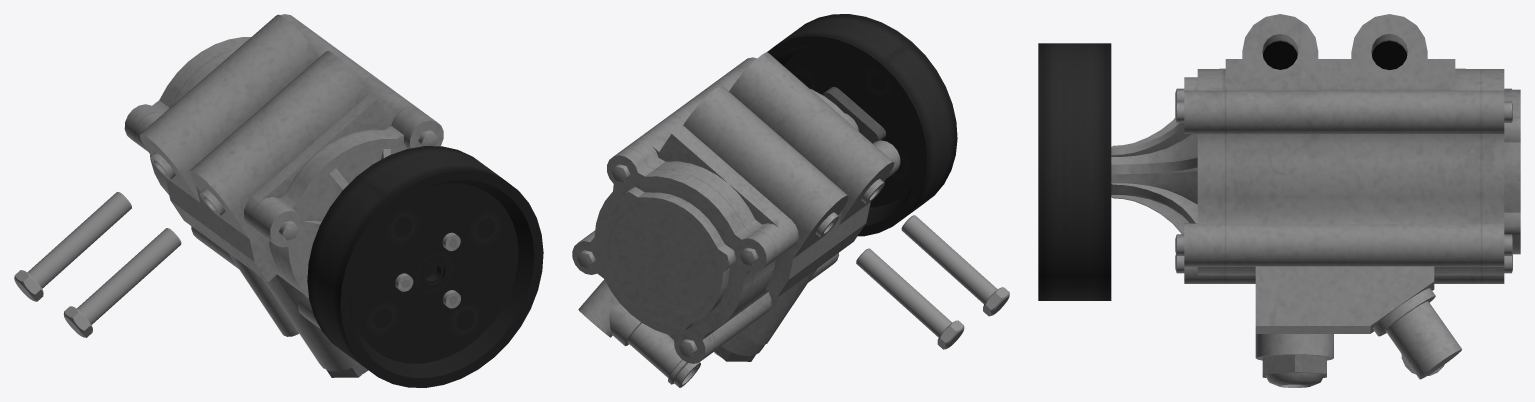
Rendered from powersteering.glb.
The picture shows the model from 3 angles, left to right: view 1: azimuth 30°, elevation 25°; view 2: azimuth 150°, elevation 25°; view 3: azimuth 270°, elevation 25°; orthographic projection. The views are drawn at different scales.
Visible parts, largest first — view 1: pompa_wspomagania(0), Obj_srubaSilnikDluga_0, srubaSilnikDluga_0; view 2: pompa_wspomagania(0), Obj_srubaSilnikDluga_0, srubaSilnikDluga_0; view 3: pompa_wspomagania(0).
Boxes of the visible parts, x1=… form: pompa_wspomagania(0): x1=124, y1=14, x2=543, y2=387; Obj_srubaSilnikDluga_0: x1=63, y1=228, x2=181, y2=337; srubaSilnikDluga_0: x1=14, y1=192, x2=131, y2=301; pompa_wspomagania(0): x1=572, y1=14, x2=957, y2=387; Obj_srubaSilnikDluga_0: x1=901, y1=215, x2=1009, y2=316; srubaSilnikDluga_0: x1=856, y1=248, x2=964, y2=349; pompa_wspomagania(0): x1=1038, y1=14, x2=1520, y2=387.
Size of the model in its own units: 0.00418 by 0.00334 by 0.00402.
Materials: 2 (2 with a texture image).
